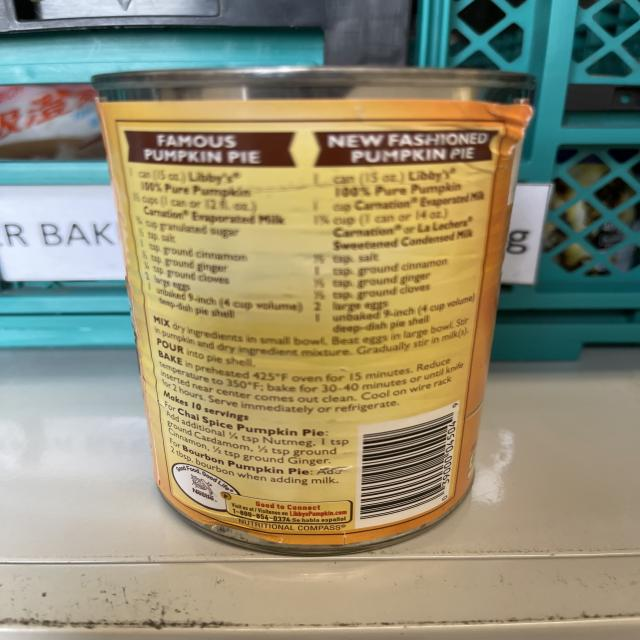object_name: (106, 71, 492, 544)
